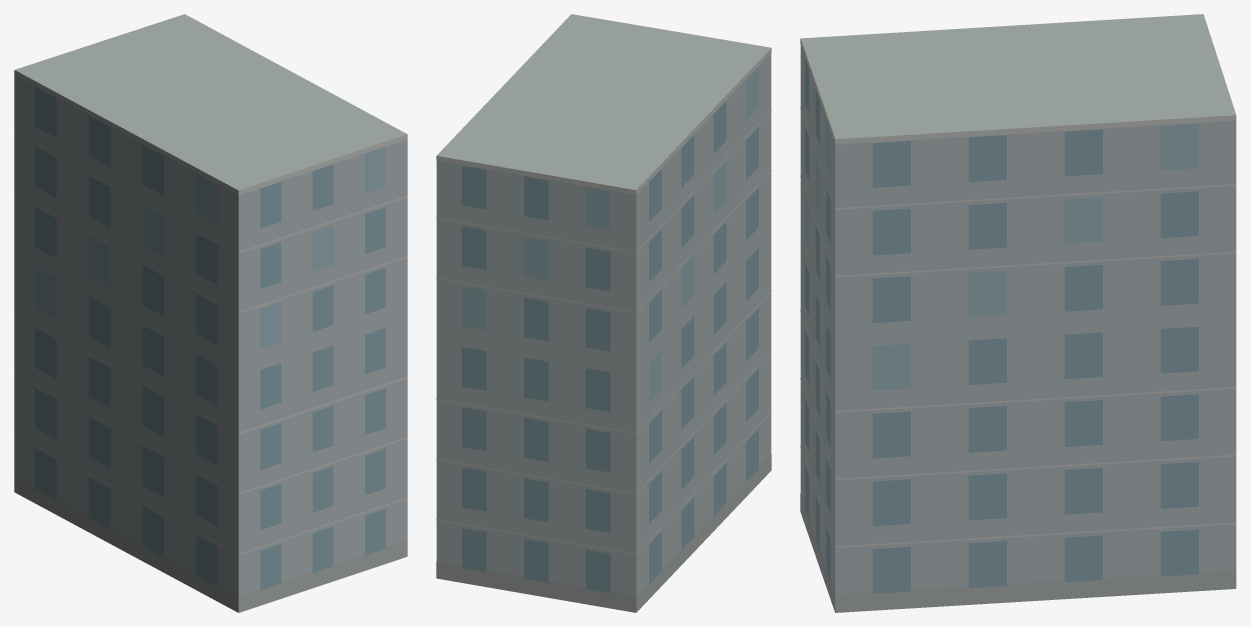
File: survey-upis-32570726.glb
The picture shows the model from 3 angles, left to right: view 1: azimuth 30°, elevation 25°; view 2: azimuth 150°, elevation 25°; view 3: azimuth 270°, elevation 25°; orthographic projection. The views are drawn at different scales.
Visible parts, largest first — view 1: survey-upis-32570726.tmp; view 2: survey-upis-32570726.tmp; view 3: survey-upis-32570726.tmp.
Boxes of the visible parts, x1,y1,x2,y2 form: survey-upis-32570726.tmp: (14, 14, 407, 612); survey-upis-32570726.tmp: (436, 14, 771, 612); survey-upis-32570726.tmp: (800, 14, 1236, 612).
Size of the model in its own units: 12.14 by 21.35 by 17.83.
